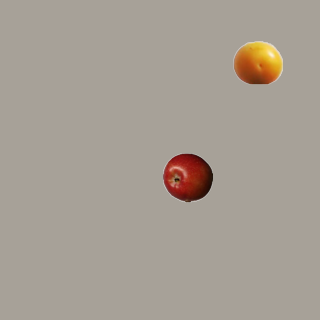Apple Braeburn: (162, 152, 212, 202)
Cherry Wax Yellow: (232, 37, 282, 87)
